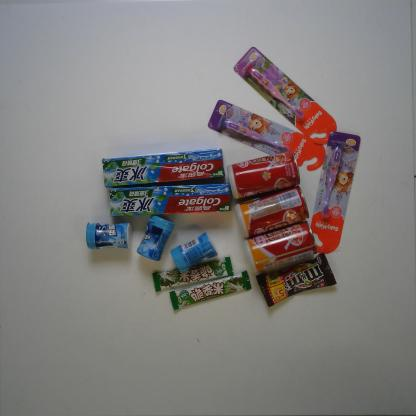Canned Food: (241, 218, 319, 277), (233, 183, 312, 241), (224, 148, 302, 202)
Chocolate: (254, 251, 339, 310), (167, 269, 253, 312), (150, 255, 236, 294)
Gum: (168, 230, 220, 274), (136, 212, 177, 263), (83, 220, 136, 253)
Personal Hygiene: (230, 43, 339, 147), (205, 98, 328, 174), (308, 129, 362, 257), (100, 147, 227, 190), (106, 181, 234, 218)
